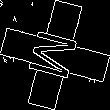M_E: (25, 26, 85, 84)
